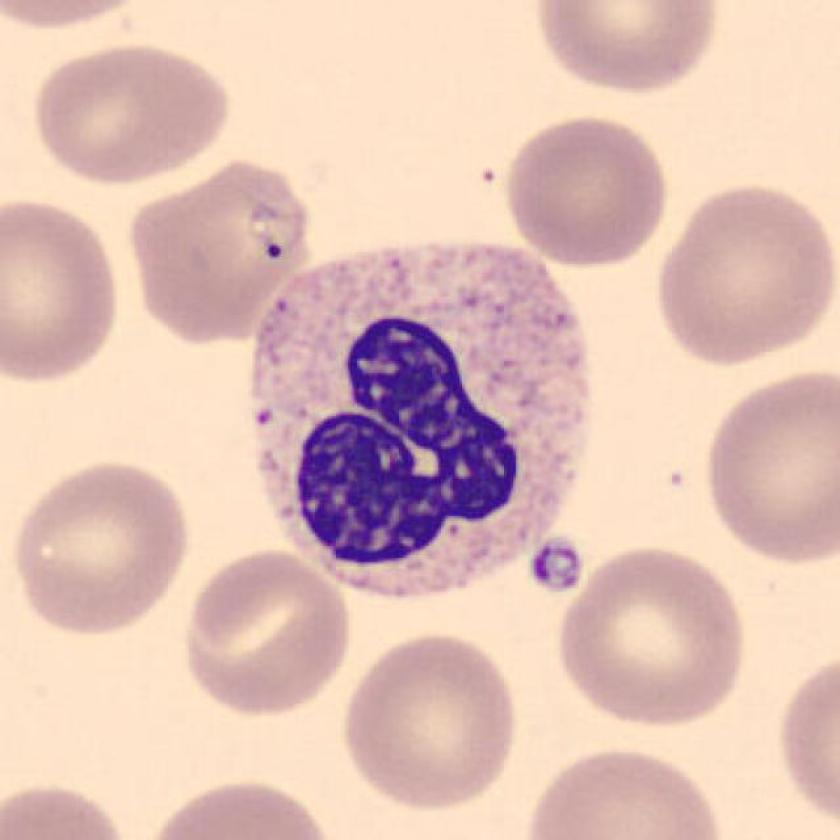neutrophil: (252, 248, 593, 601)
